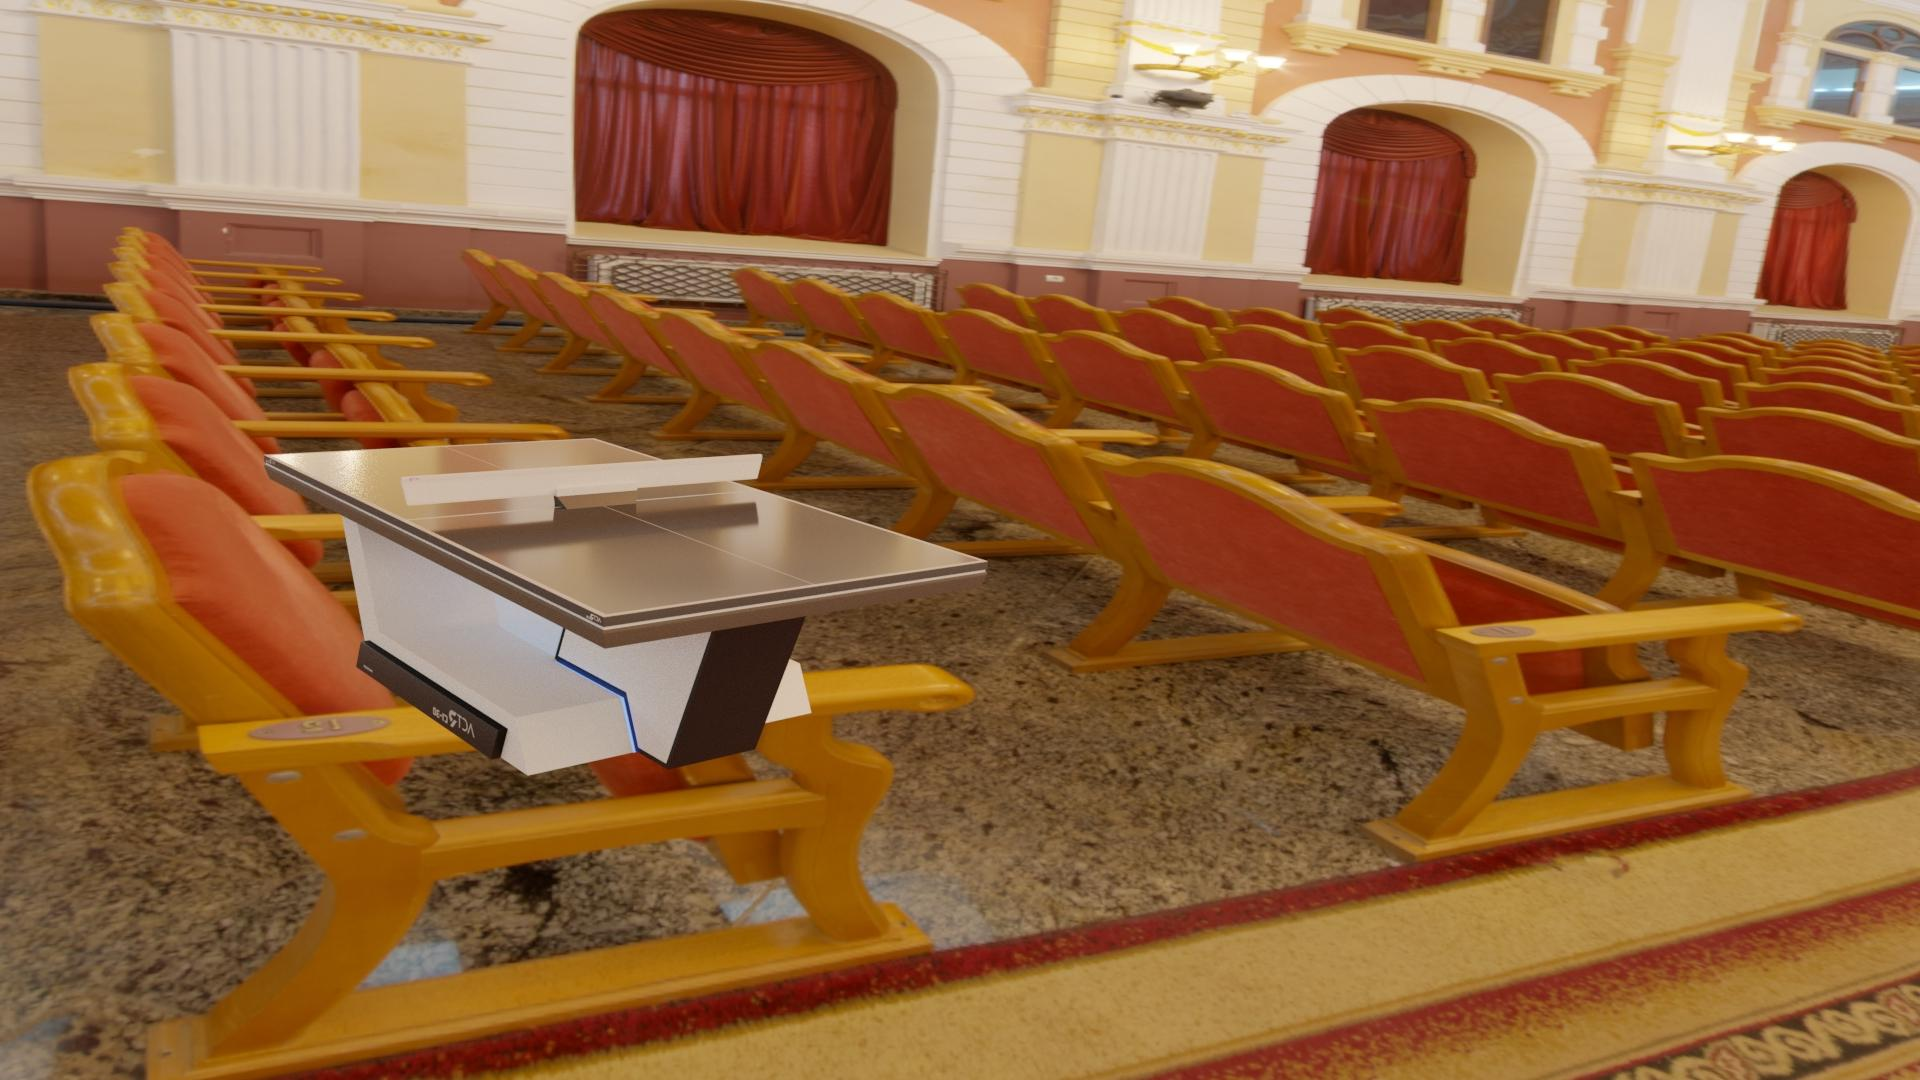table: (270, 439, 980, 615)
